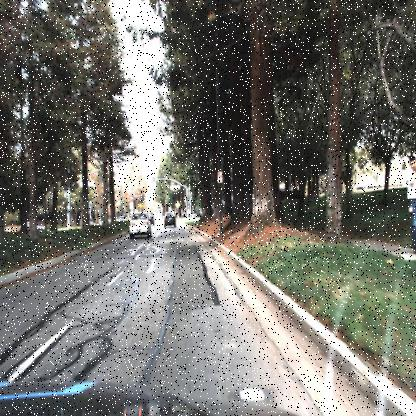car: (128, 210, 151, 241), (163, 209, 178, 229), (26, 220, 46, 233)
trafficLight-Green: (190, 192, 192, 204), (152, 174, 154, 185)
